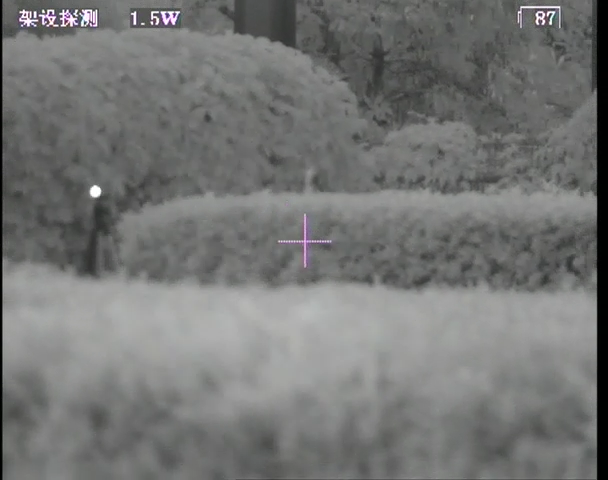my: (88, 182, 102, 199)
